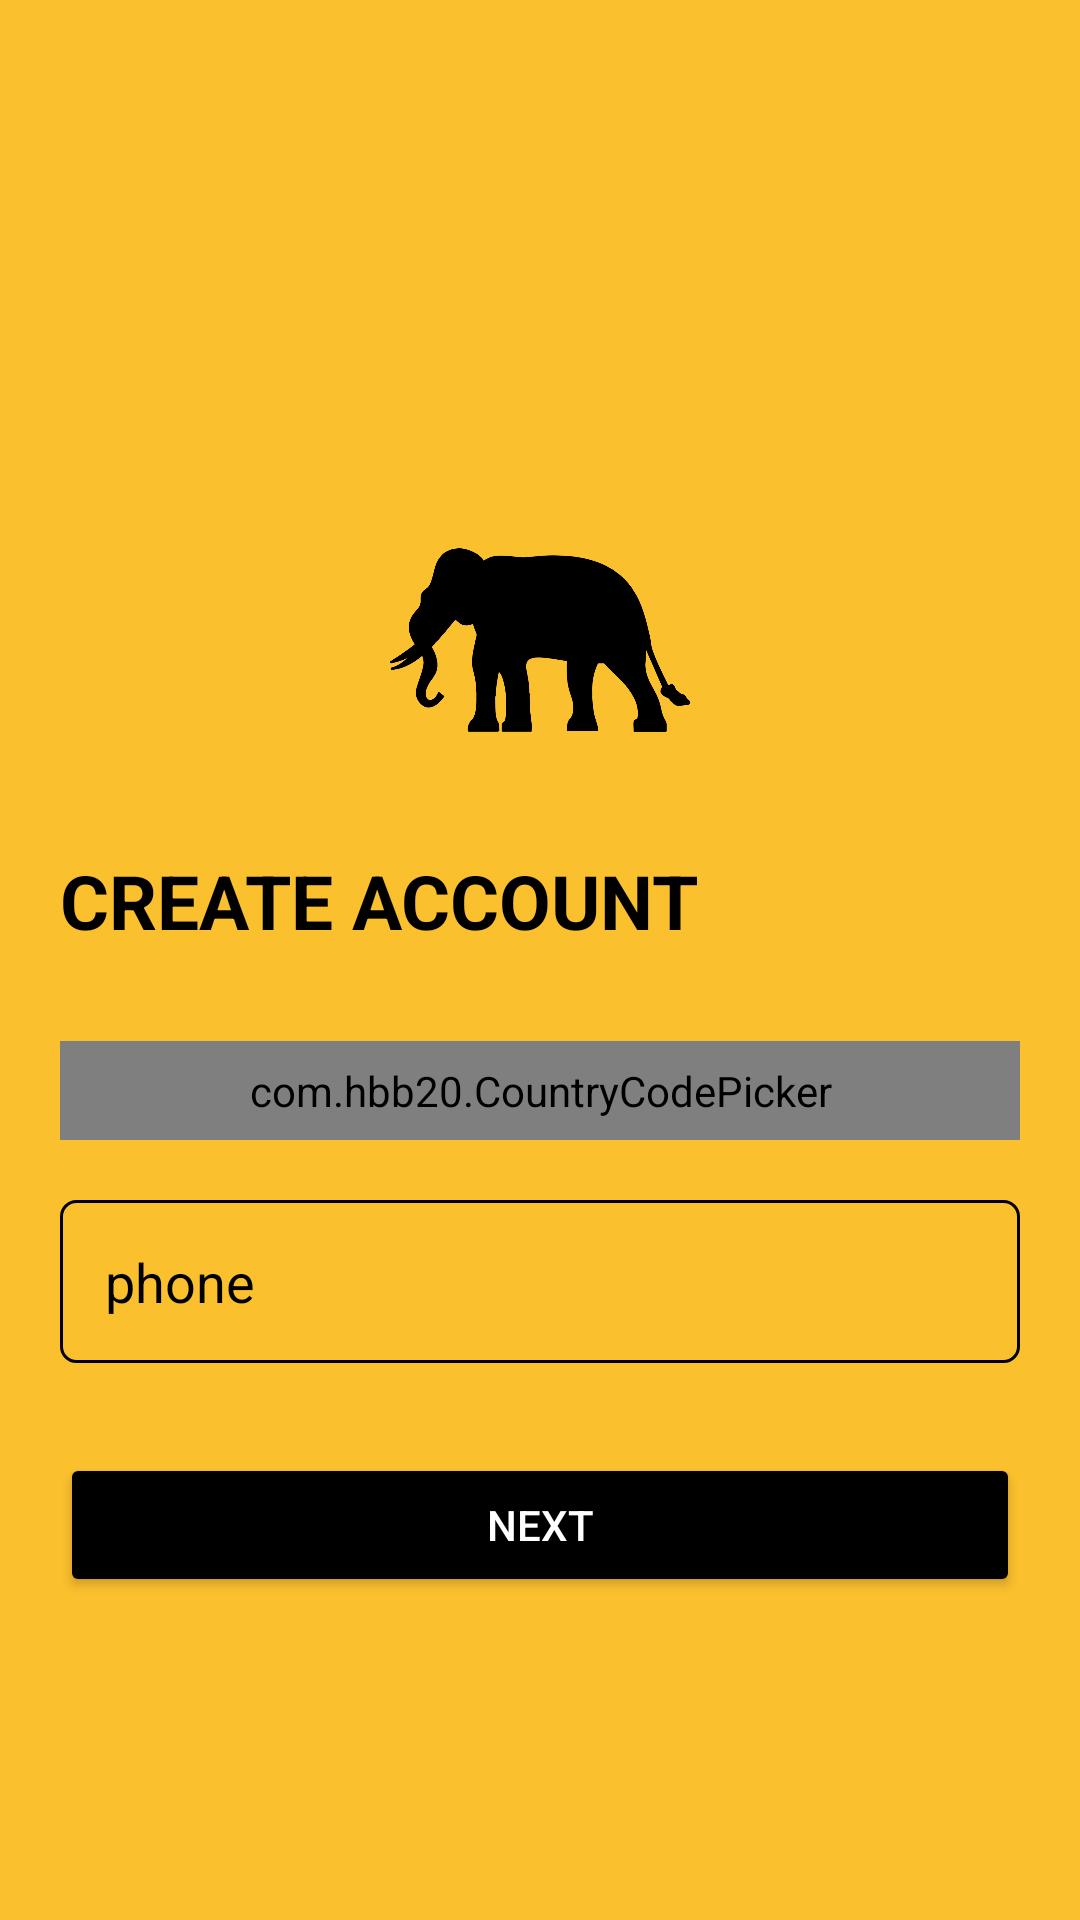

Icons on this 1080w x 1920h Android screen, each with the point to tap as (x=x, y=y):
african elephant: (x=540, y=640)
